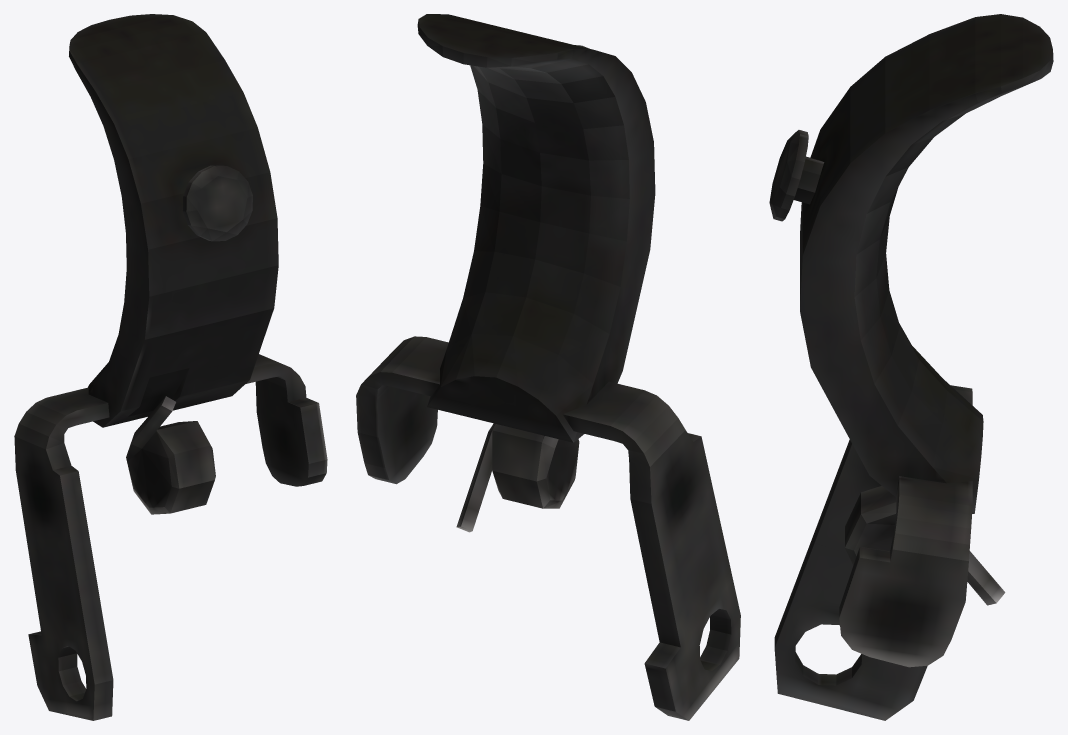
3 renders of one model, left to right at view 1: azimuth 30°, elevation 25°; view 2: azimuth 150°, elevation 25°; view 3: azimuth 270°, elevation 25°, orthographic. The views are drawn at different scales.
Visible parts, largest first — view 1: TW_6193d3cded0429009f543e6a_PZ_Import; view 2: TW_6193d3cded0429009f543e6a_PZ_Import; view 3: TW_6193d3cded0429009f543e6a_PZ_Import.
Boxes of the visible parts, left/top/right/bottom form: TW_6193d3cded0429009f543e6a_PZ_Import: left=14, top=14, right=327, bottom=720; TW_6193d3cded0429009f543e6a_PZ_Import: left=356, top=14, right=740, bottom=720; TW_6193d3cded0429009f543e6a_PZ_Import: left=769, top=14, right=1053, bottom=720.
Size of the model in its own units: 0.0113 by 0.00883 by 0.0253.
Materials: 1 (1 with a texture image).
